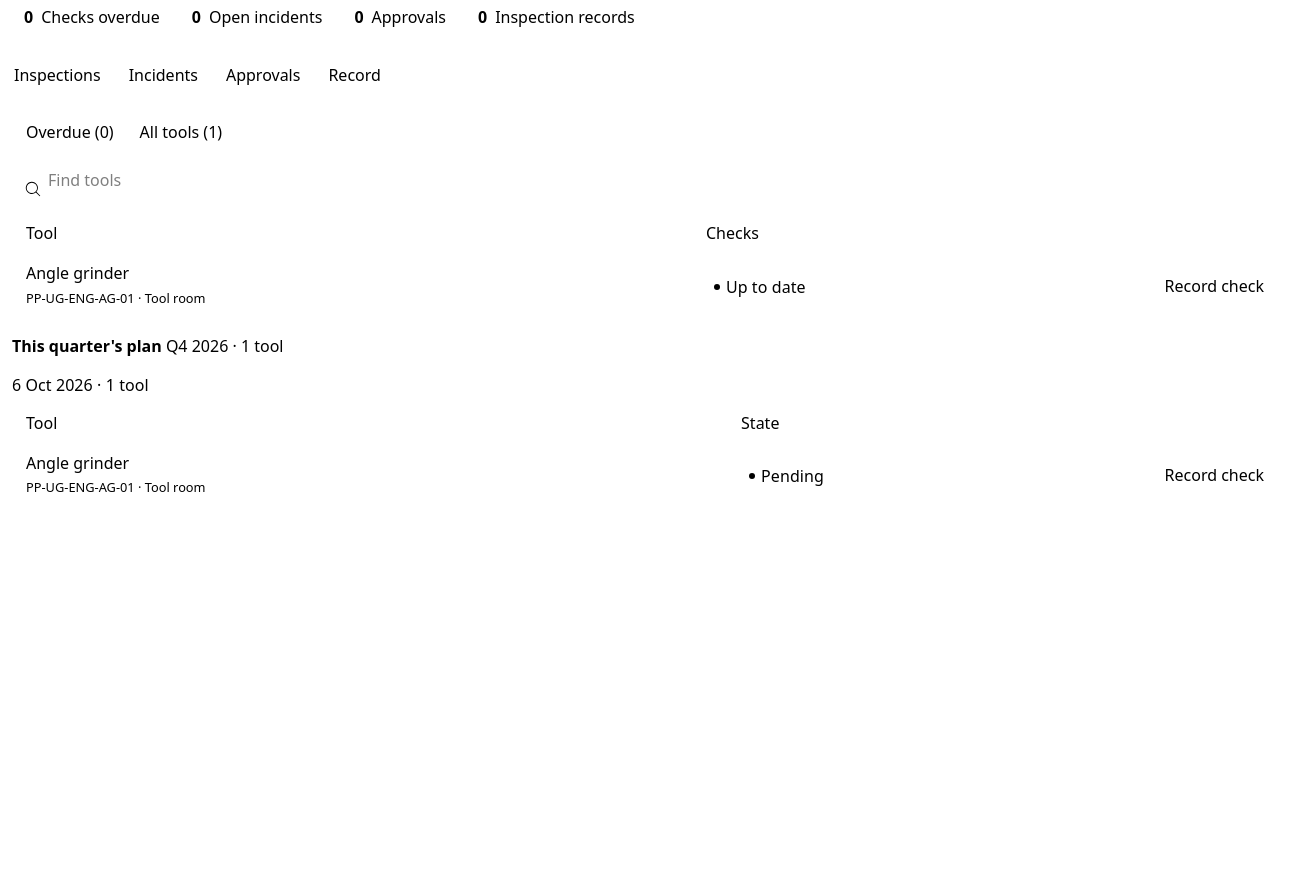
Test case: ToolsCompliance › counts a passed quarterly check done even before its plan row links it, and offers recording on pending rows
Expected: the text "Pending" is shown, [761, 466, 824, 486]
Click the button with aria-label "Record a check for Angle grinder" at (1214, 475), box [1150, 457, 1278, 493]
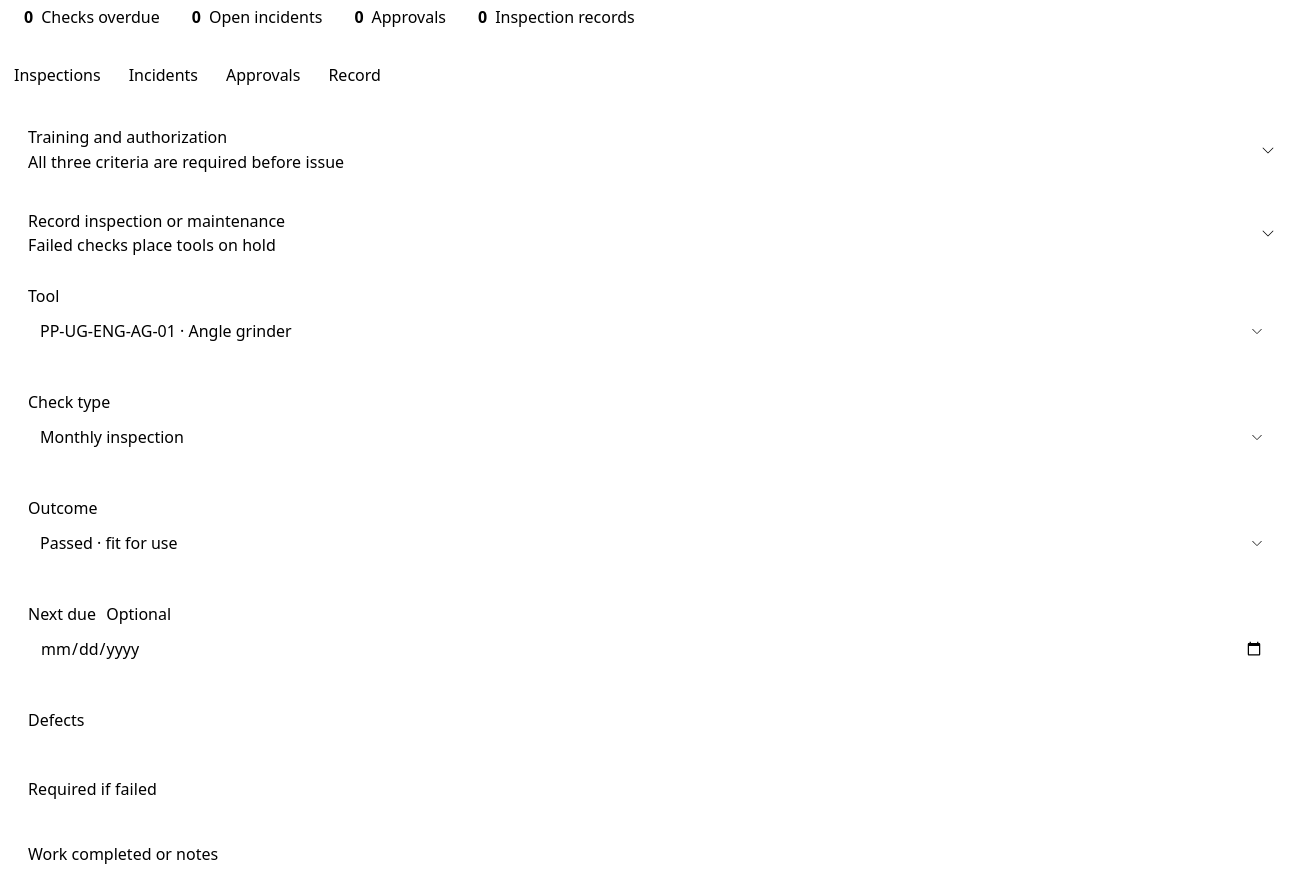
Now the text "Record inspection or maintenance" is shown, box [28, 210, 285, 233]
